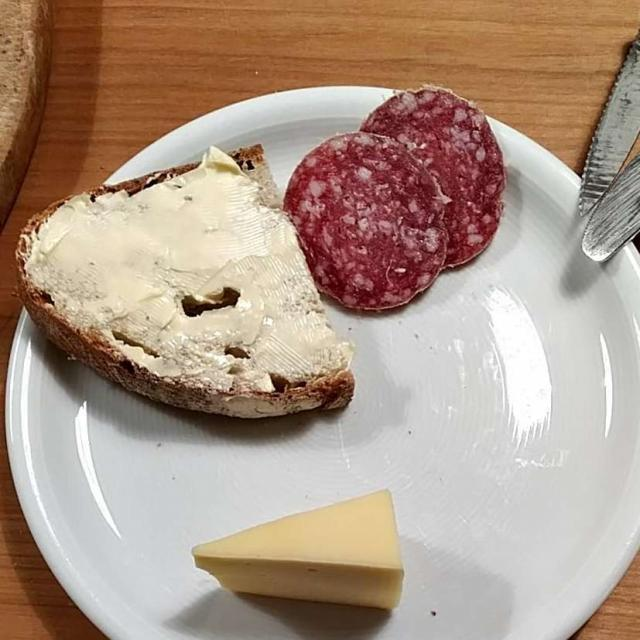bread: (14, 139, 363, 432)
butter: (17, 167, 339, 378)
cheese: (184, 490, 403, 603)
salami: (294, 85, 504, 306)
